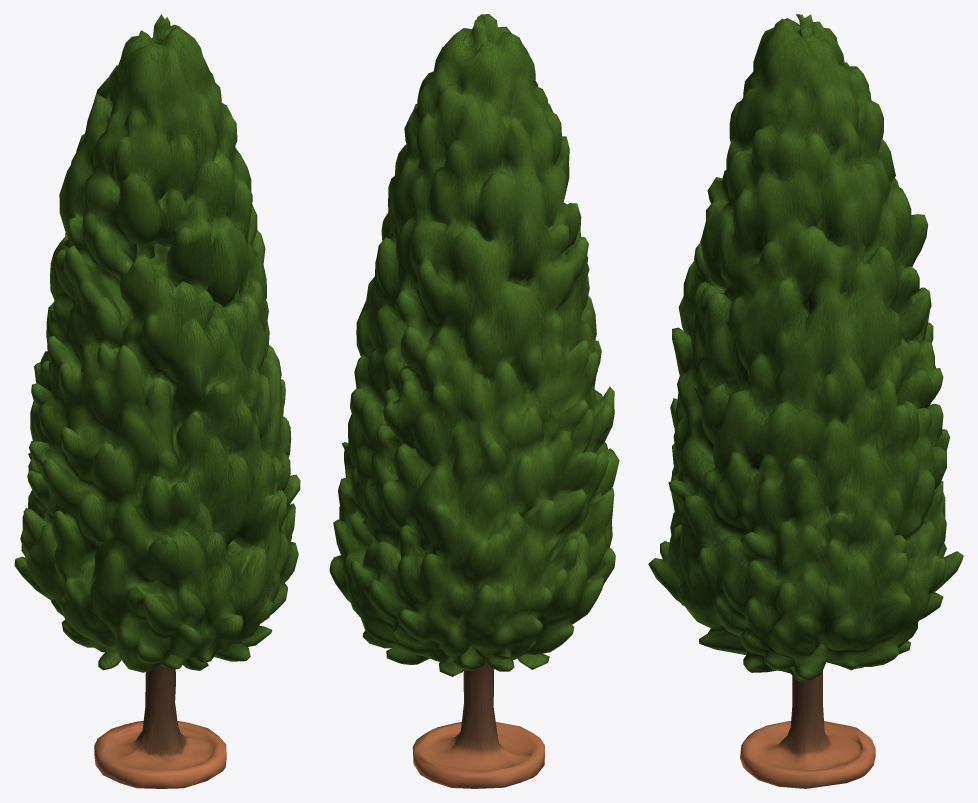
File: cypress_tree.glb
The picture shows the model from 3 angles, left to right: view 1: azimuth 30°, elevation 25°; view 2: azimuth 150°, elevation 25°; view 3: azimuth 270°, elevation 25°; orthographic projection.
Parts seen in each view (by area): view 1: world; view 2: world; view 3: world.
Boxes of the visible parts, x1=… form: world: x1=14, y1=14, x2=300, y2=788; world: x1=329, y1=14, x2=619, y2=788; world: x1=648, y1=14, x2=963, y2=788.
Bounding box in the file's own units: 0.6614 × 1.91 × 0.728.
Materials: 1 (1 with a texture image).
